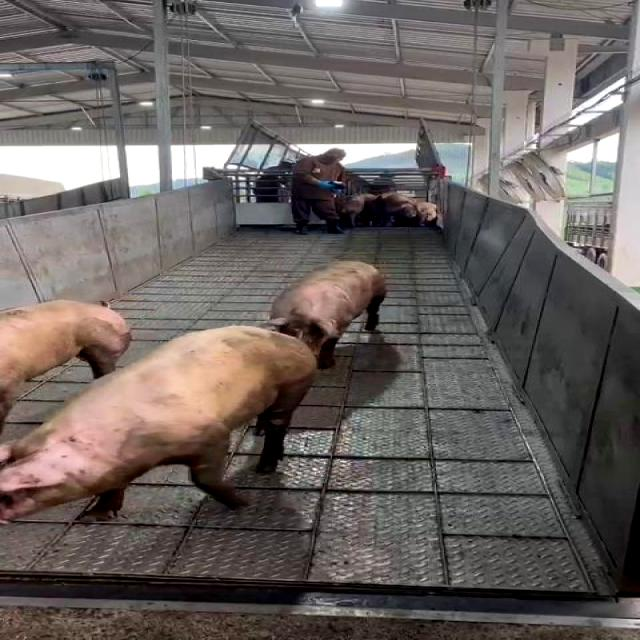pig: (3, 325, 316, 520), (0, 299, 131, 440), (269, 261, 386, 367)
